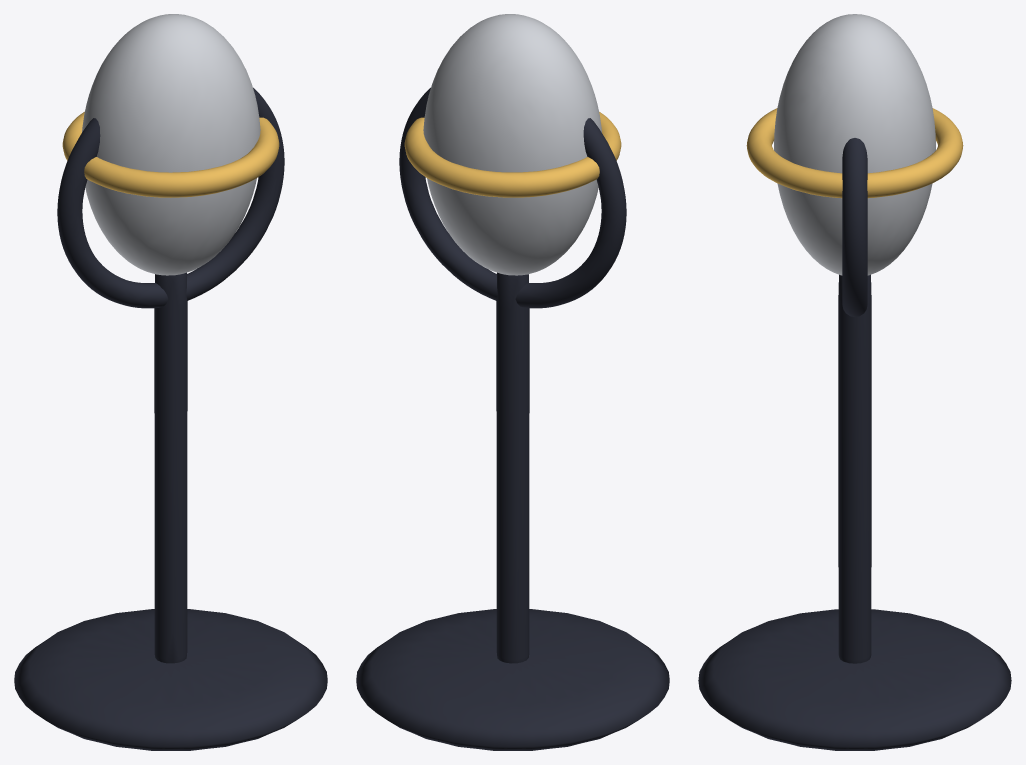
Rendered from deco_microfono.glb.
3 renders of one model, left to right at view 1: azimuth 30°, elevation 25°; view 2: azimuth 150°, elevation 25°; view 3: azimuth 270°, elevation 25°, orthographic.
Visible parts, largest first — view 1: base micro.001, cápsula.001, palo micro.001, horquilla.001, banda micro.001; view 2: base micro.001, cápsula.001, palo micro.001, horquilla.001, banda micro.001; view 3: base micro.001, cápsula.001, palo micro.001, banda micro.001, horquilla.001.
Boxes of the visible parts, x1,y1,x2,y2 form: base micro.001: (14, 609, 327, 750); cápsula.001: (82, 14, 260, 275); palo micro.001: (154, 272, 187, 663); horquilla.001: (57, 87, 284, 308); banda micro.001: (62, 111, 279, 197); base micro.001: (356, 609, 669, 750); cápsula.001: (423, 14, 601, 275); palo micro.001: (496, 272, 529, 663); horquilla.001: (399, 87, 626, 308); banda micro.001: (404, 111, 621, 197); base micro.001: (698, 609, 1011, 750); cápsula.001: (774, 14, 935, 275); palo micro.001: (838, 274, 871, 663); banda micro.001: (746, 108, 963, 198); horquilla.001: (842, 138, 867, 316).
Bounding box in the file's own units: 0.1339 × 0.3194 × 0.1339.
